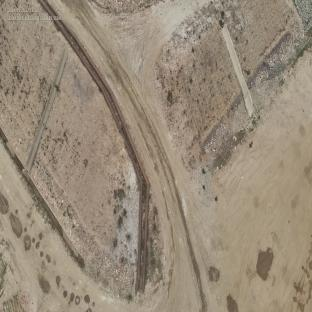rock_toe: (31, 154, 133, 292), (250, 20, 308, 102), (204, 99, 250, 169), (0, 92, 31, 161)
slope_drain: (25, 47, 69, 174), (219, 24, 254, 120)
toe_drain: (0, 125, 85, 271)
